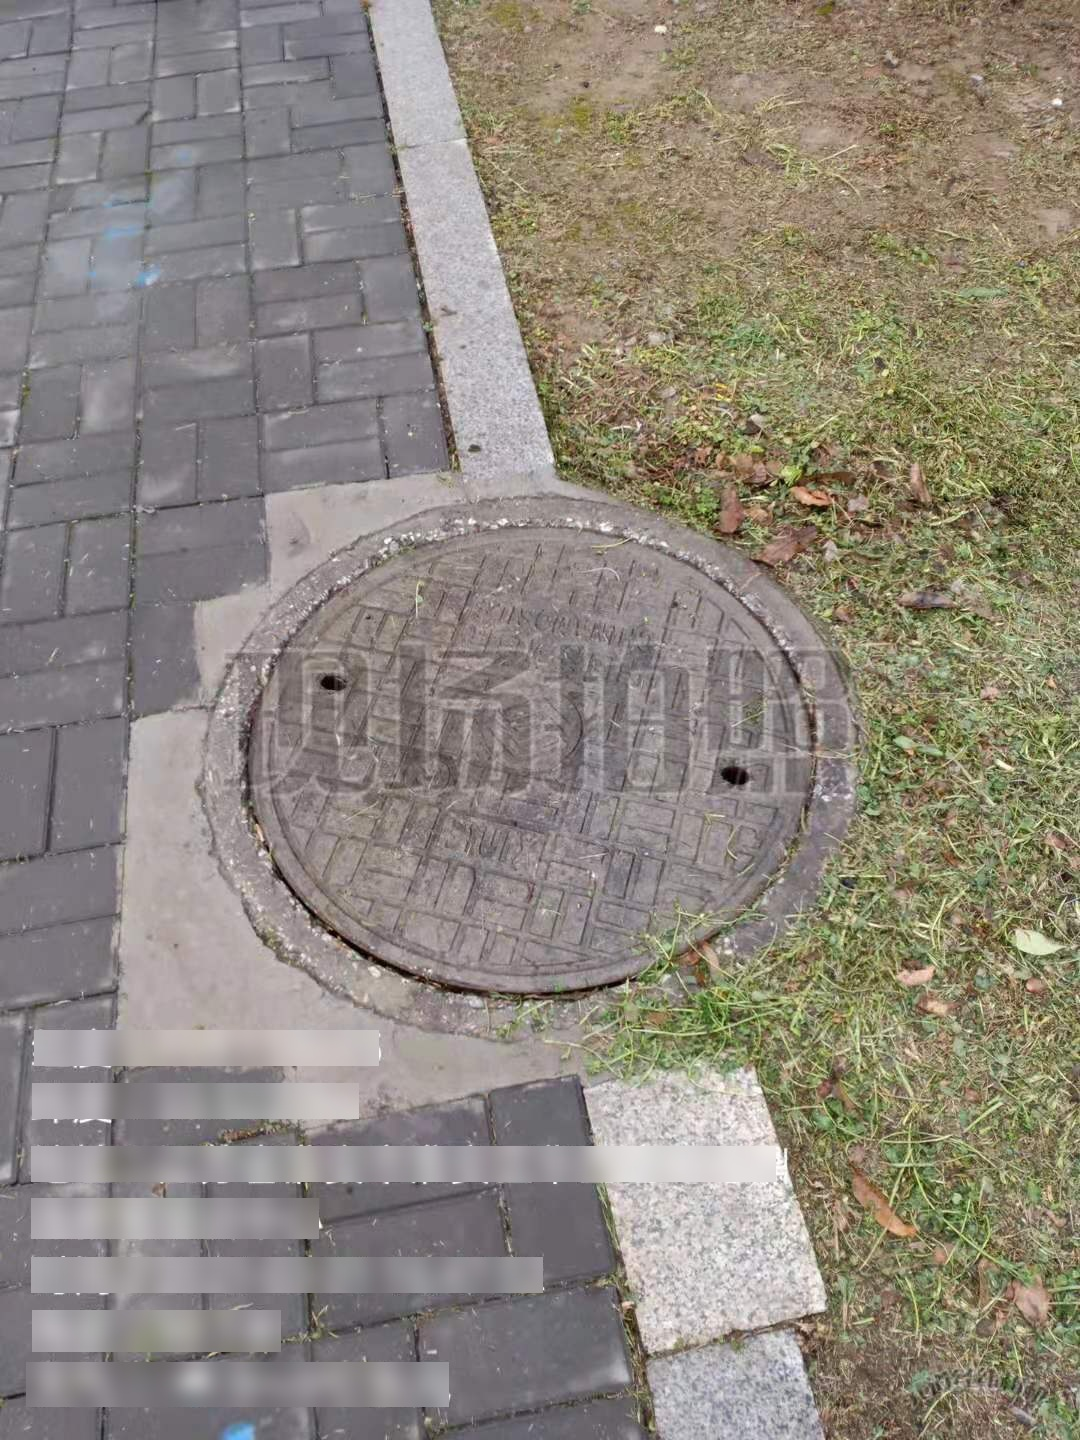good: (202, 498, 851, 1037)
